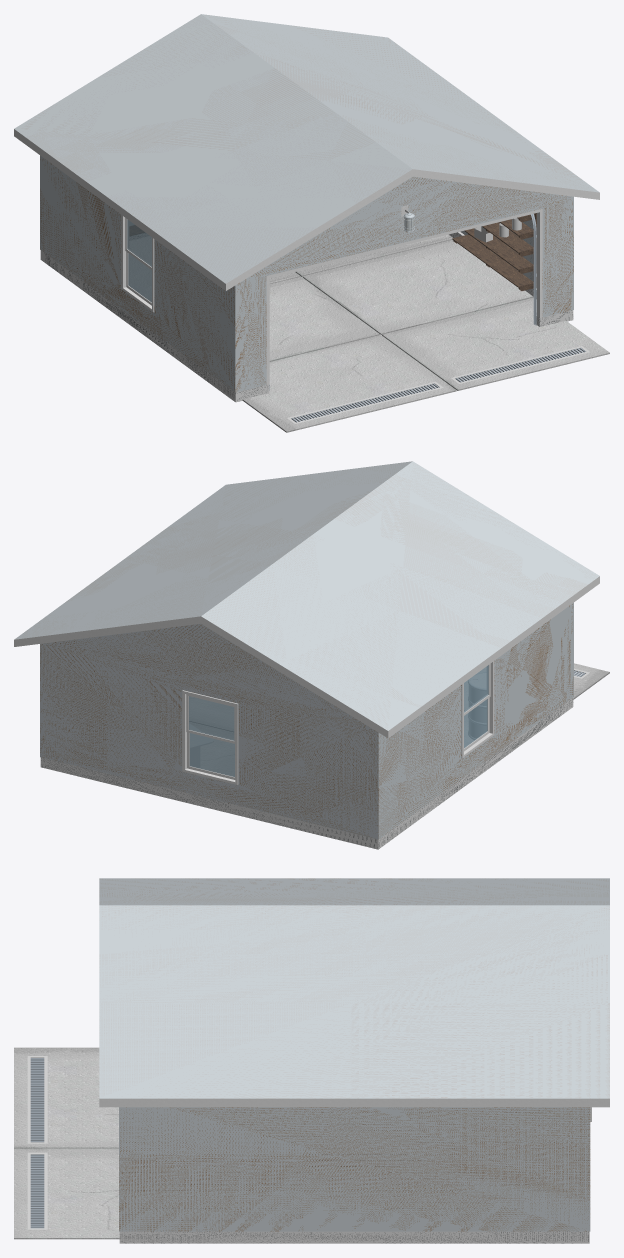
The model's file is GARAGE.fbx.
3 views of the same model, one above another, from view 1: azimuth 30°, elevation 25°; view 2: azimuth 150°, elevation 25°; view 3: azimuth 270°, elevation 25° (orthographic). The views are drawn at different scales.
Parts seen in each view (by area): view 1: group_3.004, group_3.006, group_1.002, group_1.003, group_1, group_3.008, group_1.005, group_3.003, group_0, group_3.002, group_1.001, instance_5 (+6 smaller); view 2: group_3.004, group_3.006, group_3.008, group_0, group_3.003, group_22.002, group_22.003, group_1.004, group_3.005, group_1.002, group_3.001, group_22.001 (+2 smaller); view 3: group_3.004, group_3.008, group_1, group_1.003, group_0, group_3.003, group_4, SketchUp.001.
Boxes of the visible parts, x1=… form: group_3.004: x1=14, y1=14, x2=599, y2=283; group_3.006: x1=40, y1=155, x2=573, y2=392; group_1.002: x1=302, y1=239, x2=533, y2=334; group_1.003: x1=242, y1=335, x2=456, y2=432; group_1: x1=382, y1=297, x2=609, y2=390; group_3.008: x1=257, y1=176, x2=568, y2=272; group_1.005: x1=269, y1=276, x2=379, y2=361; group_3.003: x1=14, y1=129, x2=599, y2=290; group_0: x1=40, y1=232, x2=573, y2=402; group_3.002: x1=266, y1=209, x2=542, y2=384; group_1.001: x1=129, y1=236, x2=300, y2=301; instance_5: x1=452, y1=234, x2=533, y2=287; group_3.004: x1=14, y1=461, x2=599, y2=730; group_3.006: x1=40, y1=603, x2=573, y2=839; group_3.008: x1=45, y1=623, x2=356, y2=719; group_0: x1=40, y1=697, x2=573, y2=849; group_3.003: x1=14, y1=576, x2=599, y2=738; group_22.002: x1=189, y1=696, x2=234, y2=740; group_22.003: x1=189, y1=733, x2=234, y2=776; group_1.004: x1=189, y1=722, x2=234, y2=776; group_3.005: x1=182, y1=690, x2=238, y2=784; group_1.002: x1=189, y1=697, x2=233, y2=731; group_3.001: x1=461, y1=661, x2=494, y2=758; group_22.001: x1=464, y1=699, x2=487, y2=748; group_3.004: x1=99, y1=878, x2=609, y2=1098; group_3.008: x1=119, y1=1107, x2=590, y2=1231; group_1: x1=14, y1=1148, x2=119, y2=1239; group_1.003: x1=14, y1=1047, x2=118, y2=1148; group_0: x1=119, y1=1231, x2=589, y2=1243; group_3.003: x1=99, y1=1098, x2=609, y2=1107; group_4: x1=27, y1=1056, x2=47, y2=1143; SketchUp.001: x1=27, y1=1152, x2=47, y2=1229.
Bounding box in the file's own units: 808 × 409 × 925.
